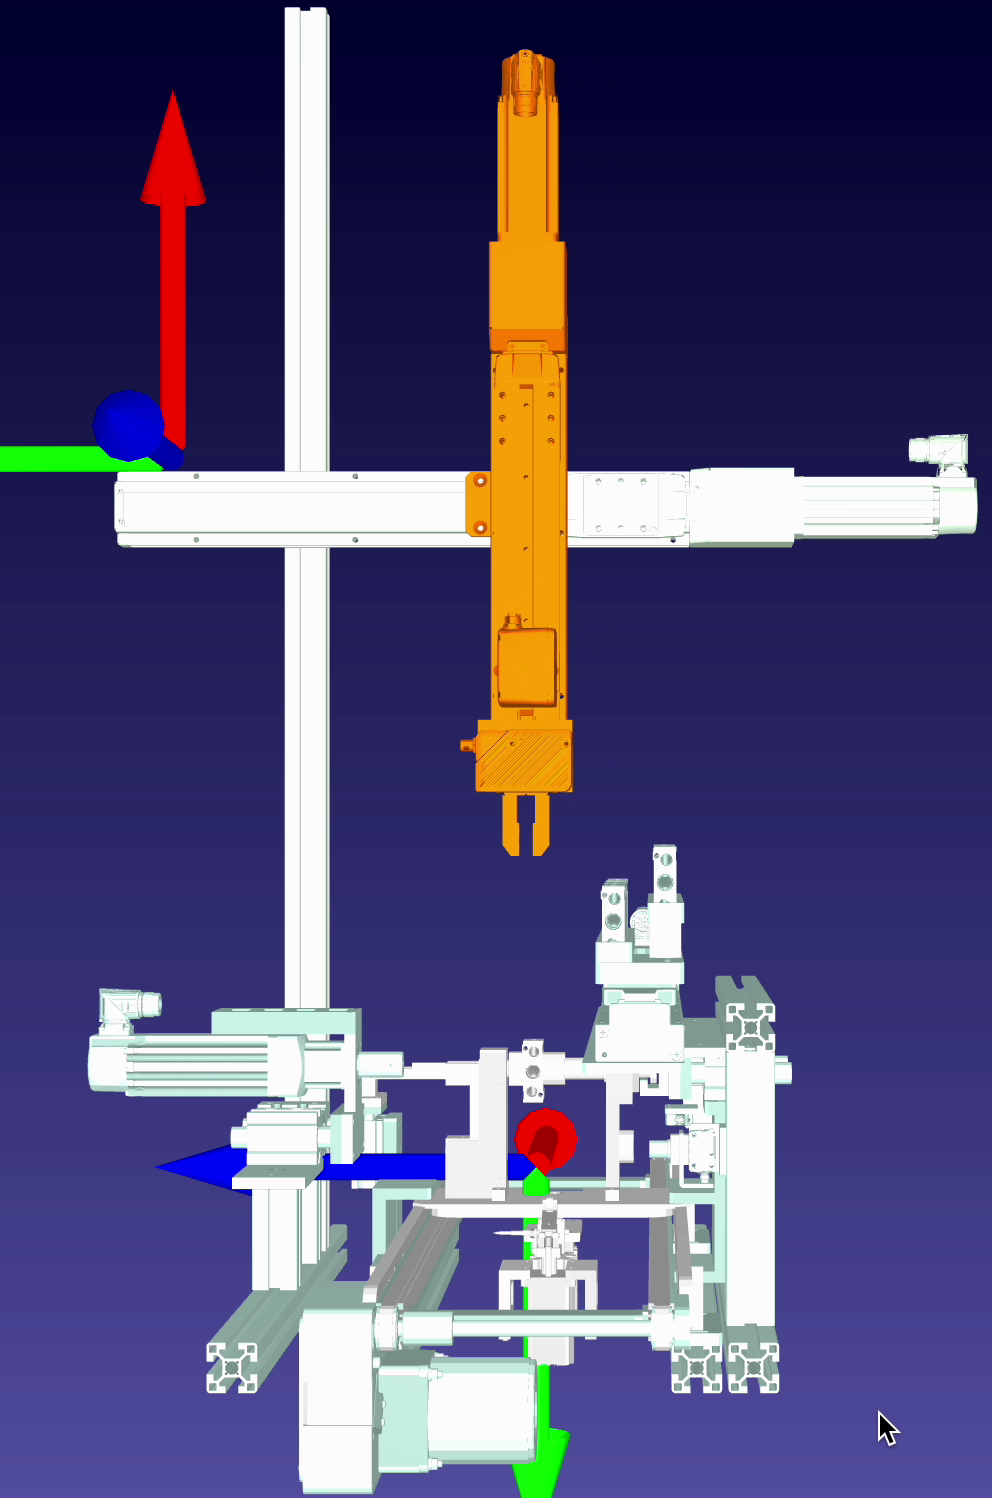Gripper: (449, 703, 582, 867)
